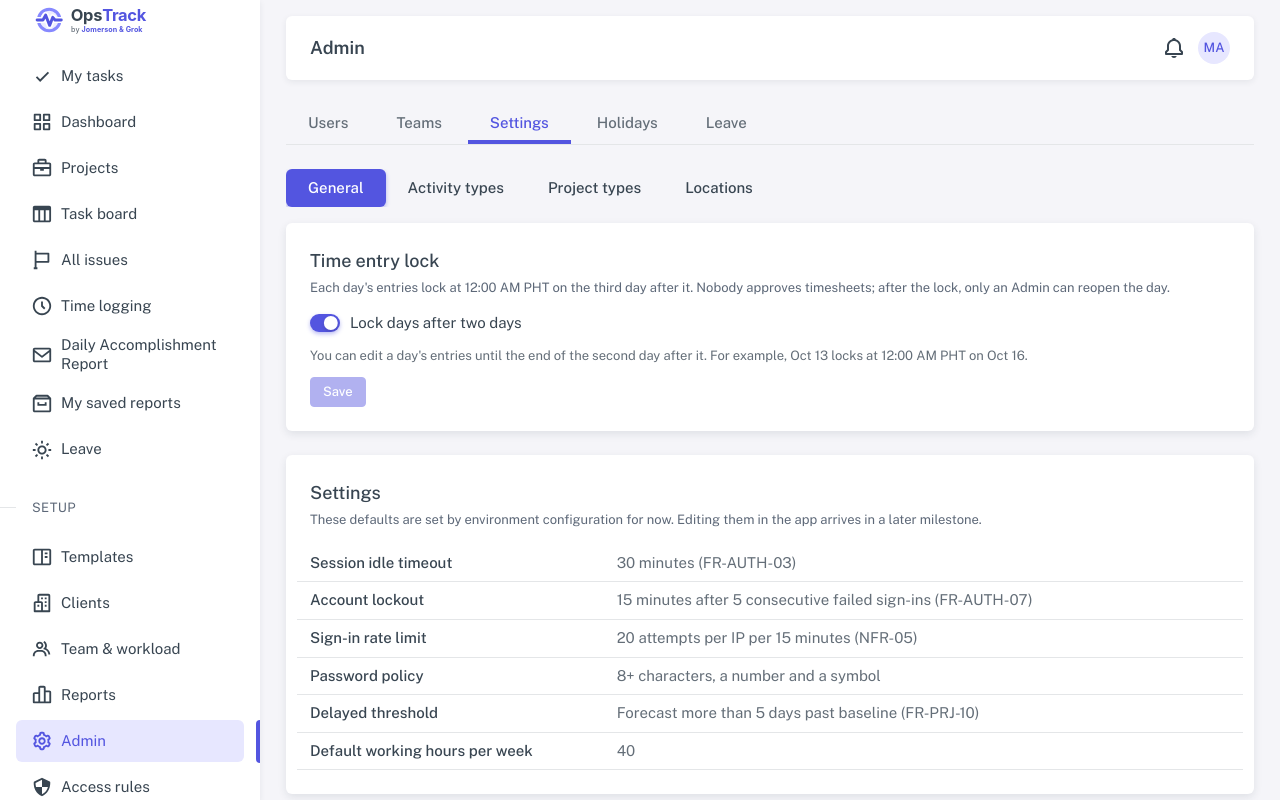
Scenario: FR-PTY-01 Admin › Settings › Project types › deactivate asks first and says how many projects keep it
Click the button "Project types": click(595, 188) [526,169,663,207]
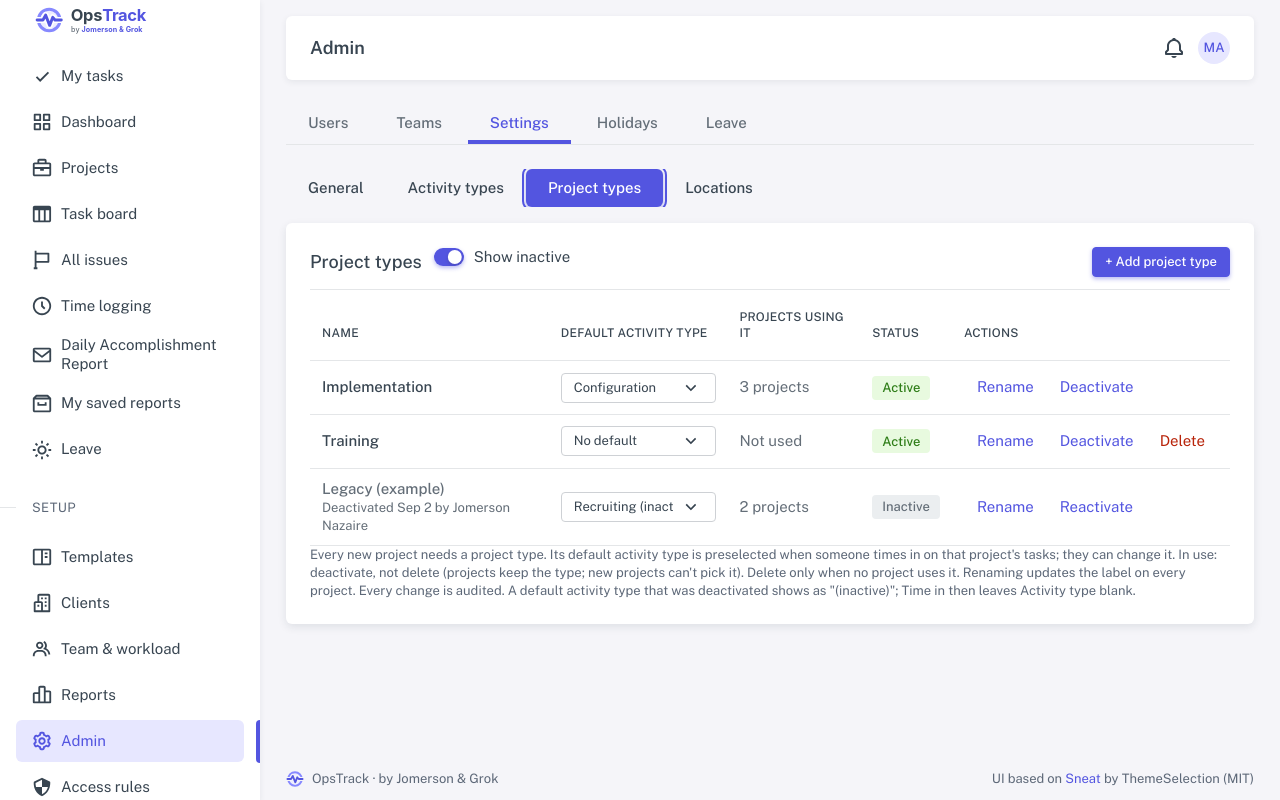
Click the button "Deactivate" in the row of "Implementation": click(1097, 388) [1047,371,1147,404]
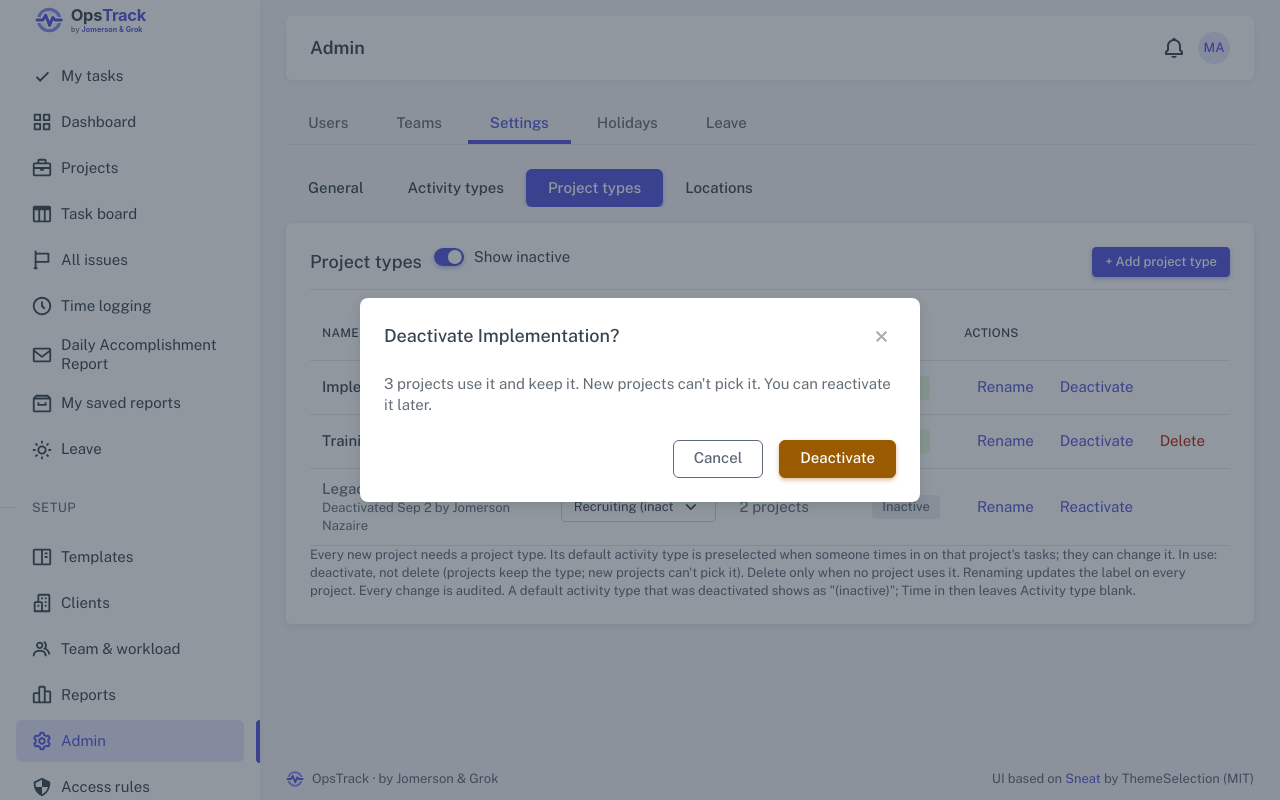
Now the dialog "Deactivate Implementation?" shows "3 projects use it and keep it.", box [384,375,891,413]
Click the button "Deactivate": click(838, 459) [779,440,896,478]
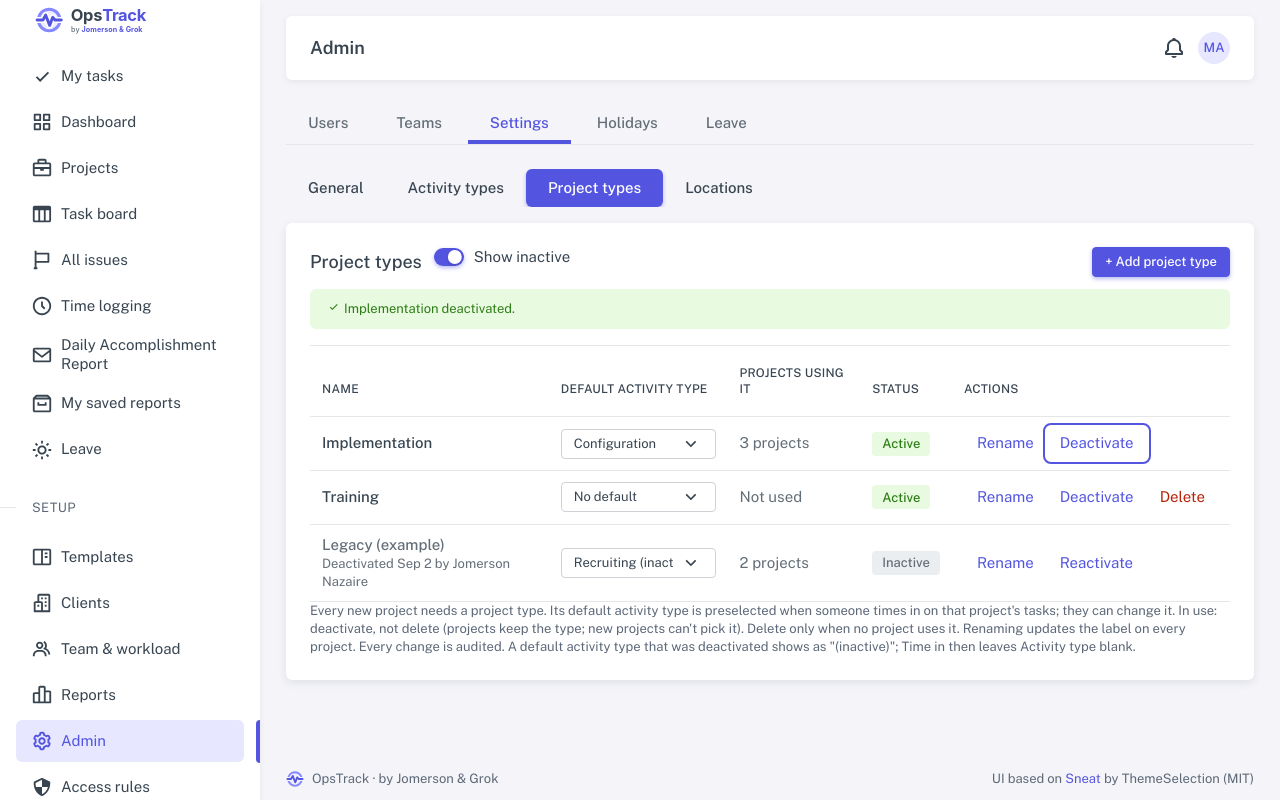
Now the text "Implementation deactivated." is shown, box [310,289,1230,329]
